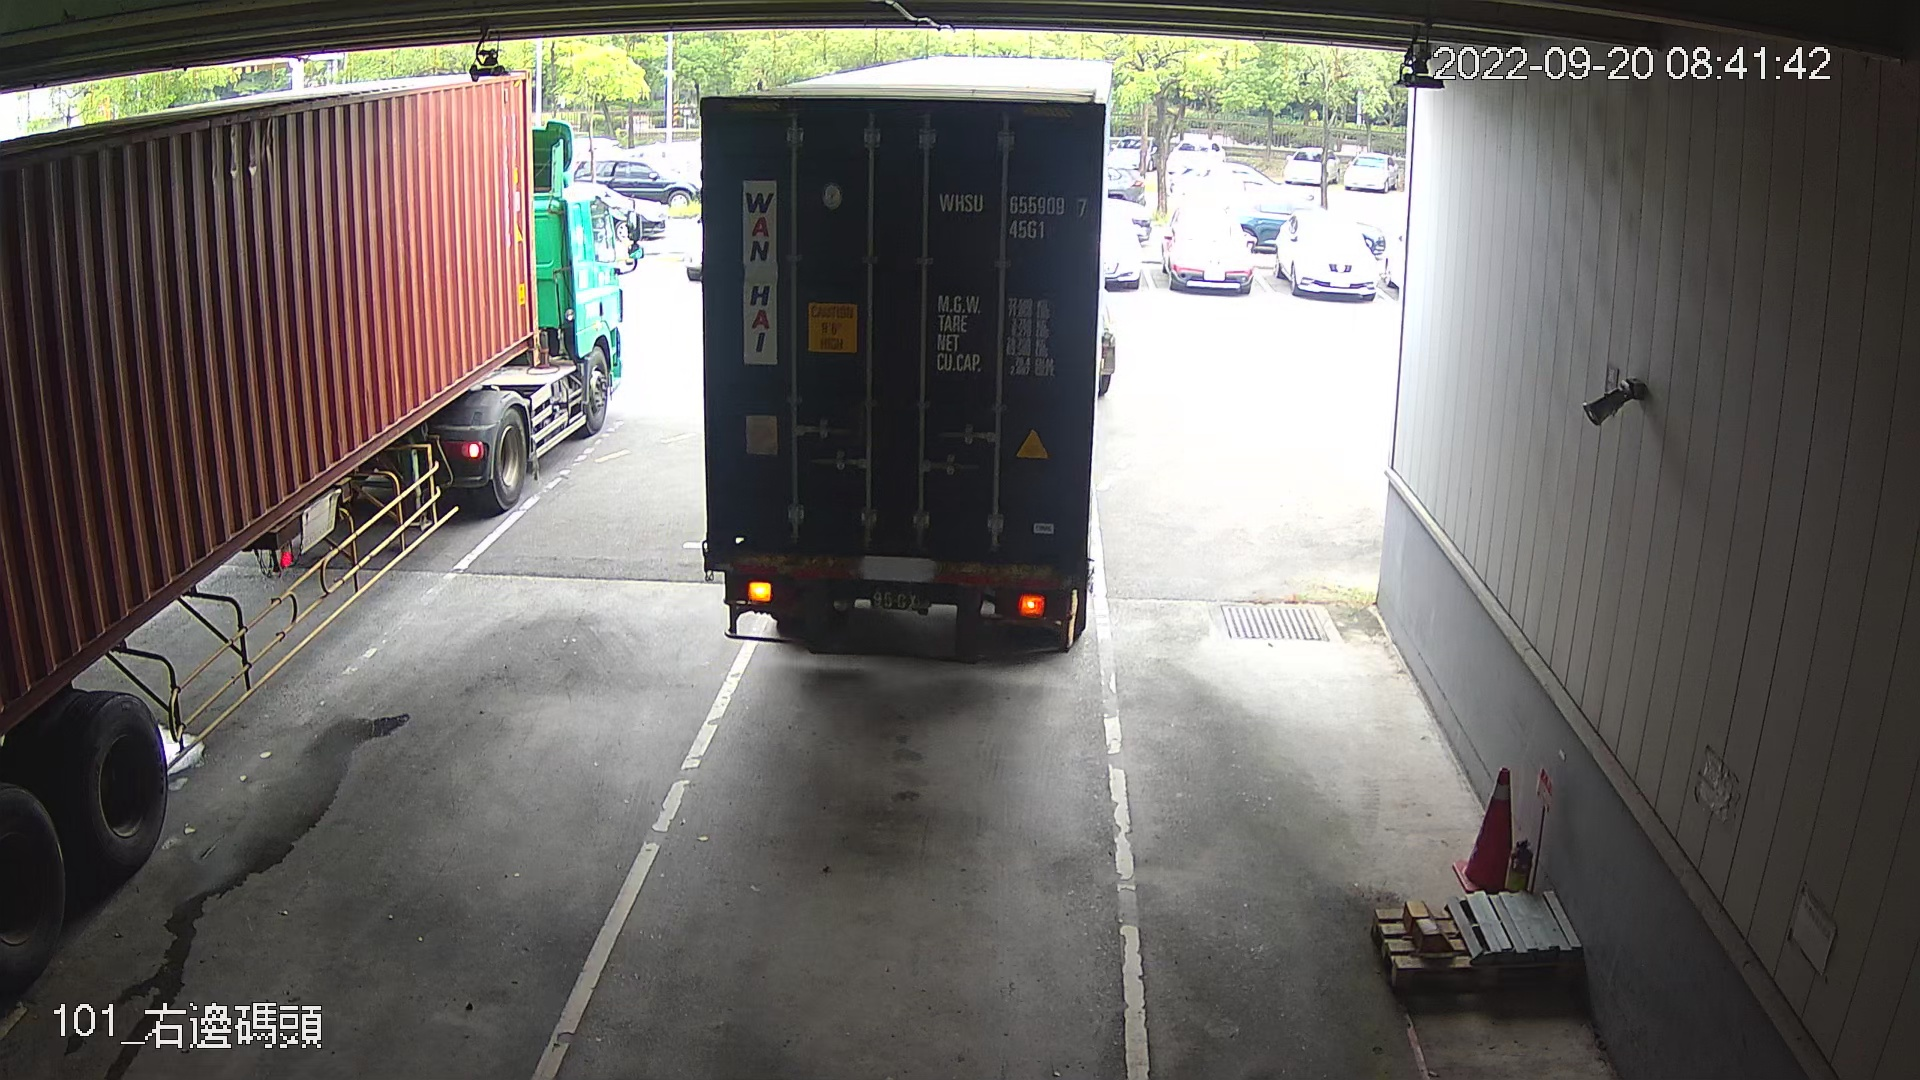container: (934, 179, 1095, 248)
